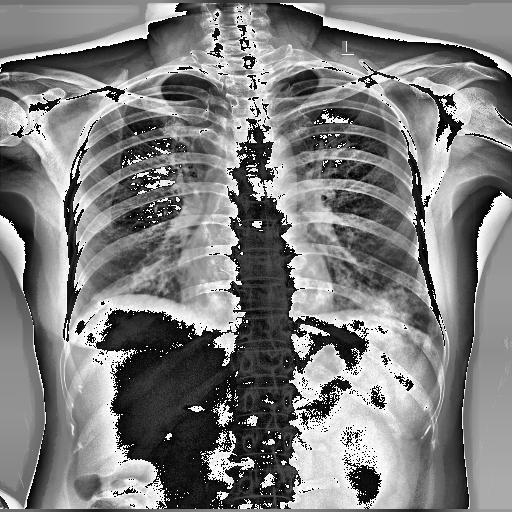6- Infiltration: (332, 262, 438, 334), (362, 273, 426, 330), (358, 286, 434, 328), (110, 258, 175, 296)
7- Lung Opacity: (362, 273, 426, 330)
